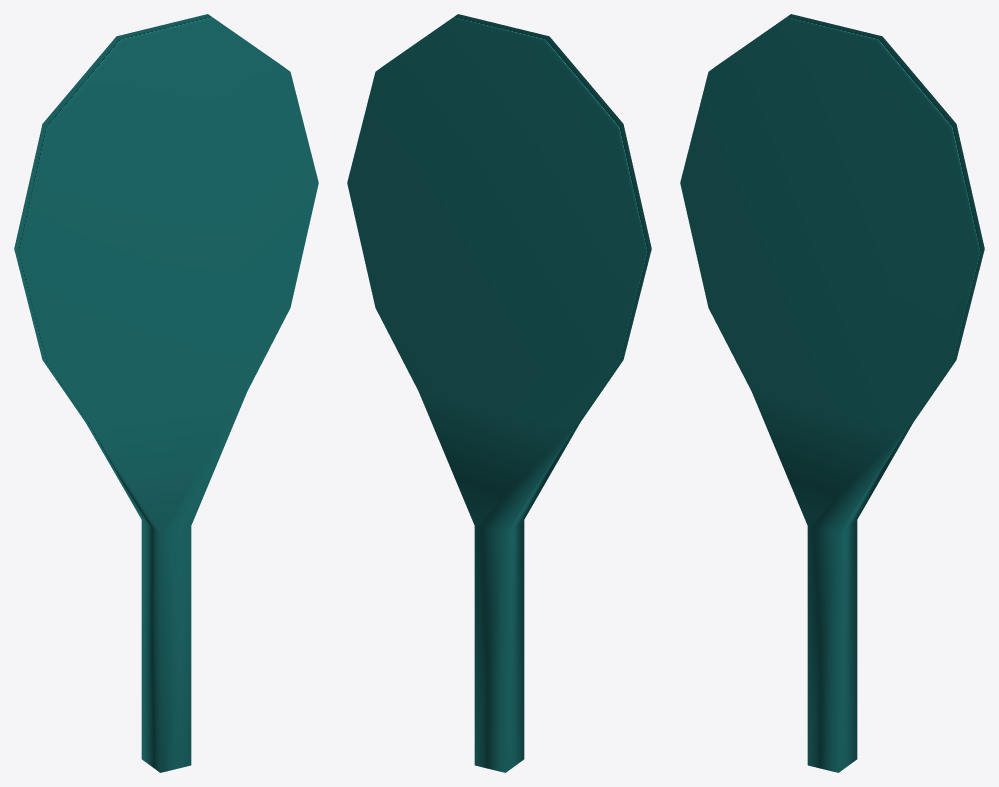
File: tennis_racket_collider.fbx
The picture shows the model from 3 angles, left to right: view 1: azimuth 30°, elevation 25°; view 2: azimuth 150°, elevation 25°; view 3: azimuth 330°, elevation 25°; orthographic projection.
Visible parts, largest first — view 1: tennis_racket_collider; view 2: tennis_racket_collider; view 3: tennis_racket_collider.
Boxes of the visible parts, x1,y1,x2,y2 form: tennis_racket_collider: (14,14,318,772); tennis_racket_collider: (347,14,651,772); tennis_racket_collider: (680,14,984,772).
Bounding box in the file's own units: 29.29 × 69.4 × 3.2.
